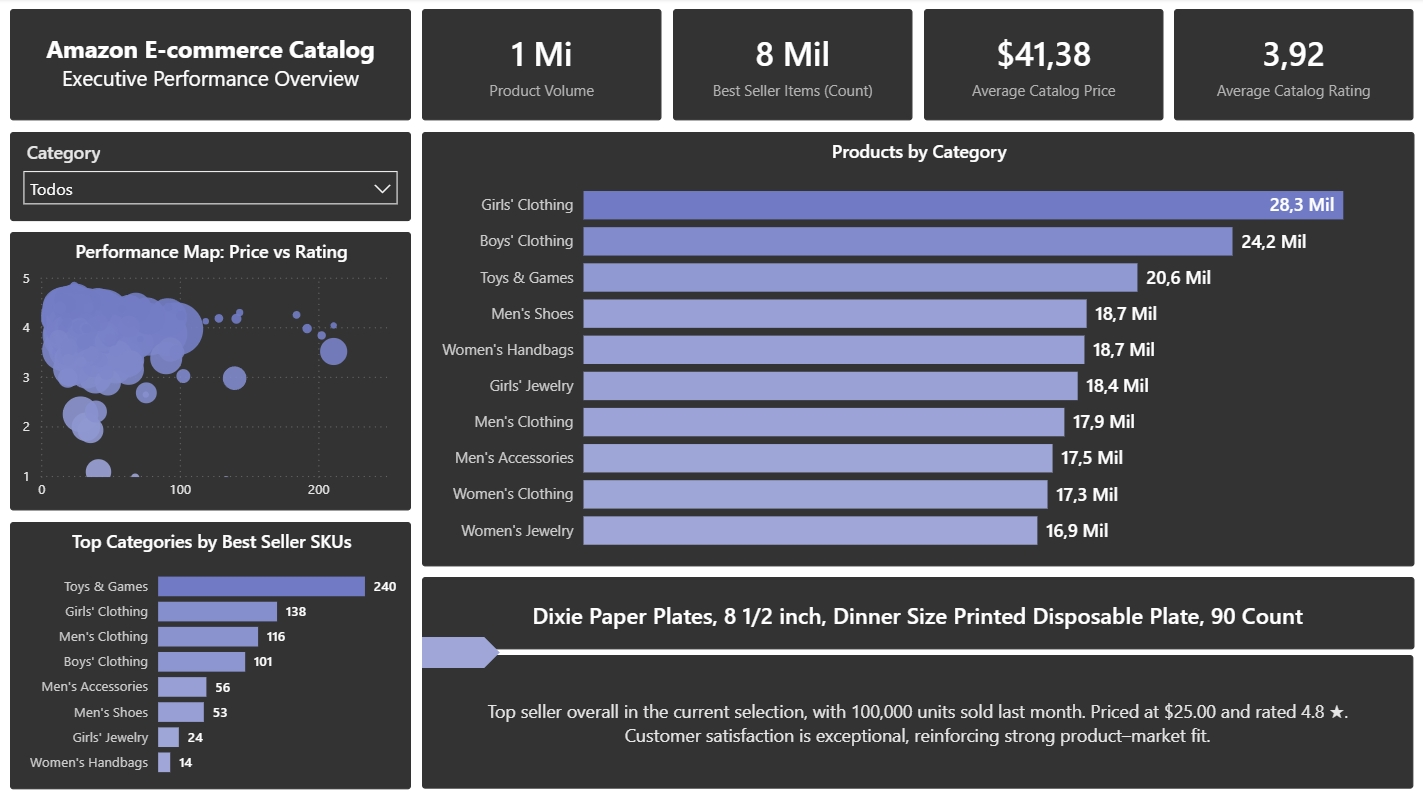

This screenshot's page, from the dashboard's own definition file:
{"tool":"powerbi","page":{"name":"Executive Overview","canvas":[1280,720],"ordinal":0},"visuals":[{"type":"cardVisual","fields":{"Data":["Medidas.Total Produtos"]},"box":[380,10,215,100],"z":0},{"type":"cardVisual","fields":{"Data":["Medidas.Rating Médio Geral"]},"box":[1055,10,215,100],"z":1000},{"type":"cardVisual","fields":{"Data":["Medidas.Total Best Sellers"]},"box":[605,10,215,100],"z":2000},{"type":"cardVisual","fields":{"Data":["Medidas.Preço Médio Geral"]},"box":[830,10,215,100],"z":3000},{"type":"clusteredBarChart","title":"Products by Category","fields":{"Category":["dash_category_overview.category_name"],"Y":["Medidas.Total Produtos"]},"box":[380,120.3,890.6,390],"z":4000},{"type":"slicer","fields":{"Values":["dash_category_overview.category_name"]},"box":[10,120,360,80],"z":5000},{"type":"textbox","box":[10,10,360,100],"z":6000},{"type":"cardVisual","fields":{"Data":["Medidas.Top Produto (Nome - Card)"]},"box":[380,520,890.6,65],"z":7000},{"type":"cardVisual","fields":{"Data":["Medidas.Resumo Top Produto (Texto)"]},"box":[380,590,890,120],"z":8000},{"type":"clusteredBarChart","title":"Top Categories by Best Seller SKUs","fields":{"Y":["Medidas.Total Best Sellers"],"Category":["dash_category_overview.category_name"]},"box":[10,470,360,240],"z":9000},{"type":"scatterChart","title":"Performance Map: Price vs Rating","fields":{"Size":["Medidas.Total Produtos"],"Y":["dash_category_overview.avg_rating"],"X":["dash_category_overview.avg_price"]},"box":[10,210,360,250],"z":10000},{"type":"shape","box":[379.8,573.7,70,27.8],"z":11000}]}

Visuals, with their boxes in screenshot pixels (x1, y1, x2, y2), scaled from the page's 1280x720 canvas onto the 1423x800 screenshot:
cardVisual - Medidas.Total Produtos: 422, 11, 661, 122
cardVisual - Medidas.Rating Médio Geral: 1173, 11, 1412, 122
cardVisual - Medidas.Total Best Sellers: 673, 11, 912, 122
cardVisual - Medidas.Preço Médio Geral: 923, 11, 1162, 122
"Products by Category" clusteredBarChart: 422, 134, 1413, 567
slicer - dash_category_overview.category_name: 11, 133, 411, 222
textbox: 11, 11, 411, 122
cardVisual - Medidas.Top Produto (Nome - Card): 422, 578, 1413, 650
cardVisual - Medidas.Resumo Top Produto (Texto): 422, 656, 1412, 789
"Top Categories by Best Seller SKUs" clusteredBarChart: 11, 522, 411, 789
"Performance Map: Price vs Rating" scatterChart: 11, 233, 411, 511
shape: 422, 637, 500, 668
